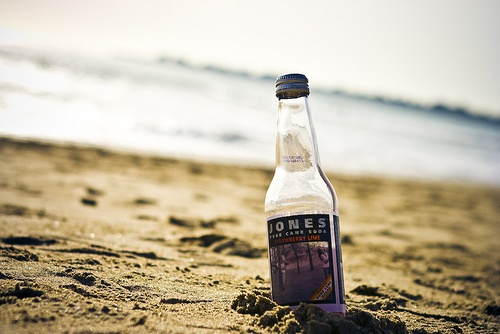emptybottle: (265, 74, 346, 320)
